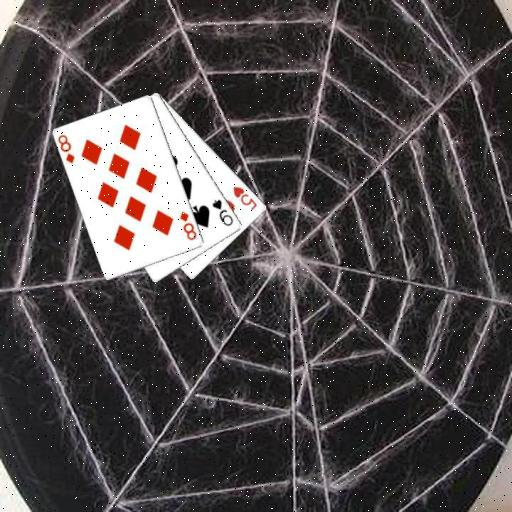5H: (231, 184, 259, 212)
8D: (177, 208, 199, 242), (55, 132, 77, 166)
9S: (209, 196, 235, 228)
